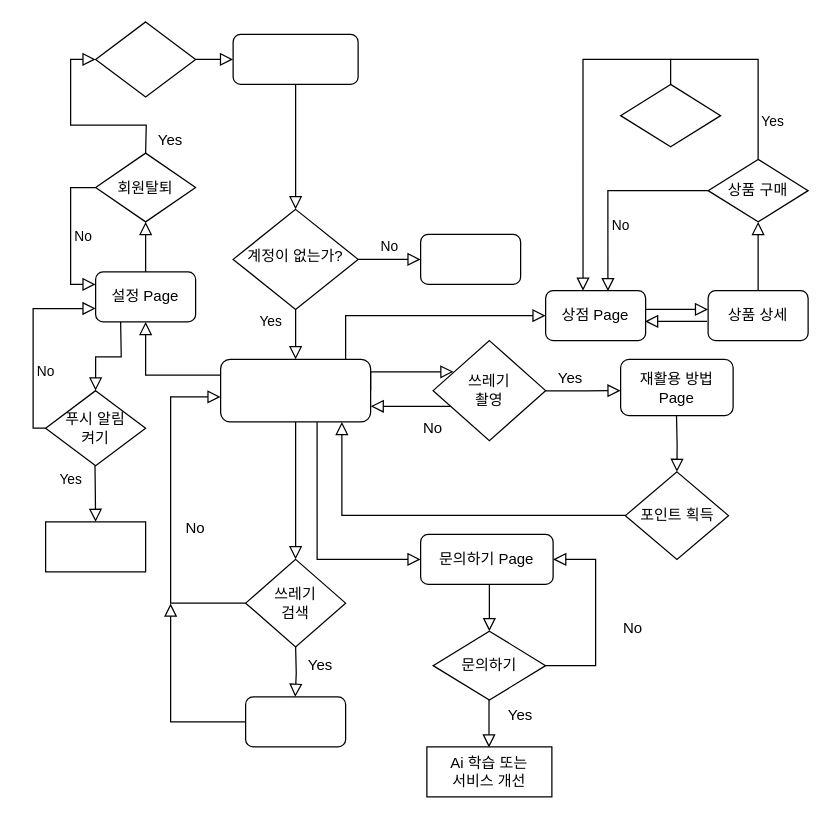
Some shapes in this 830 by 819 pixel diagram are drawn without their labels. Here are the shapes that lost their labels. From the top down, the centre of each, then its label:
pixel 145 59: 계정 삭제
pixel 295 58: 로그인
pixel 670 115: 포인트 삭감
pixel 470 258: 회원가입
pixel 295 390: Main page
pixel 95 546: 푸시 알림 켜짐
pixel 295 721: 결과 상세
